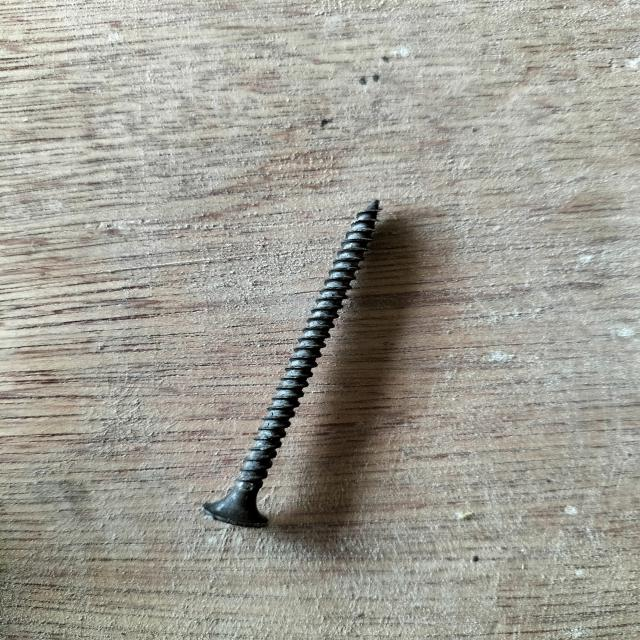screw: (198, 201, 390, 528)
